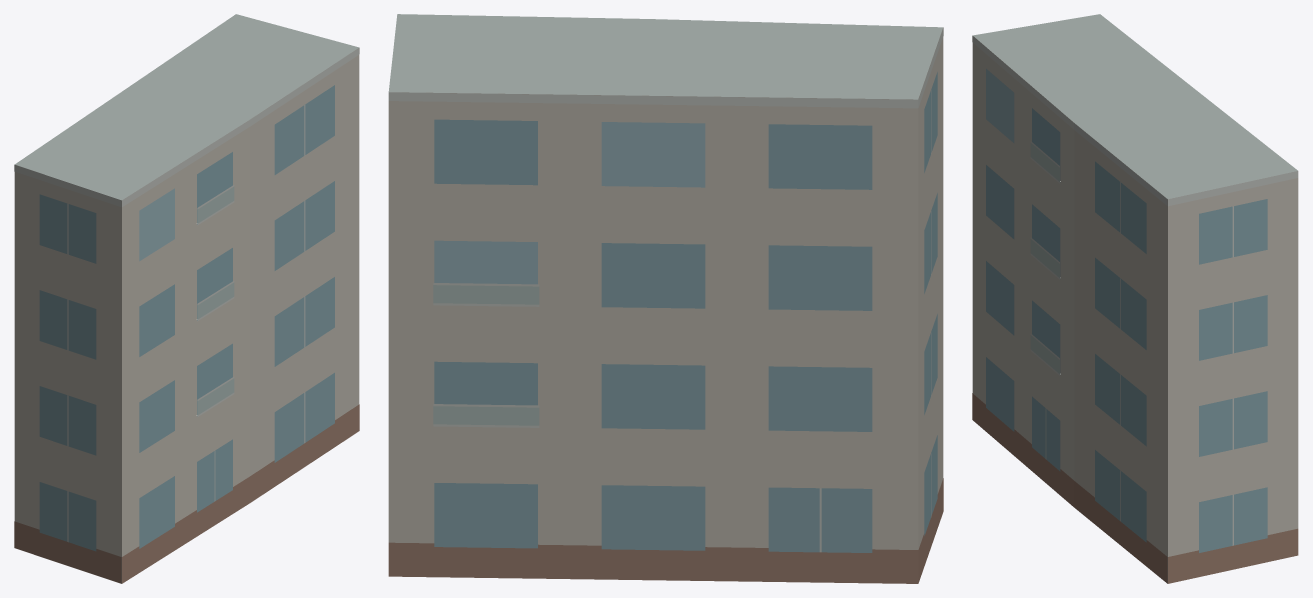
File: survey-upis-32464693.glb
3 views of the same model, side by side, from view 1: azimuth 30°, elevation 25°; view 2: azimuth 150°, elevation 25°; view 3: azimuth 270°, elevation 25° (orthographic). The views are drawn at different scales.
Visible parts, largest first — view 1: survey-upis-32464693.tmp; view 2: survey-upis-32464693.tmp; view 3: survey-upis-32464693.tmp.
Boxes of the visible parts, x1,y1,x2,y2 form: survey-upis-32464693.tmp: [14, 14, 359, 583]; survey-upis-32464693.tmp: [388, 14, 943, 583]; survey-upis-32464693.tmp: [972, 14, 1298, 583].
Bounding box in the file's own units: 13.81 × 13.35 × 10.26.
